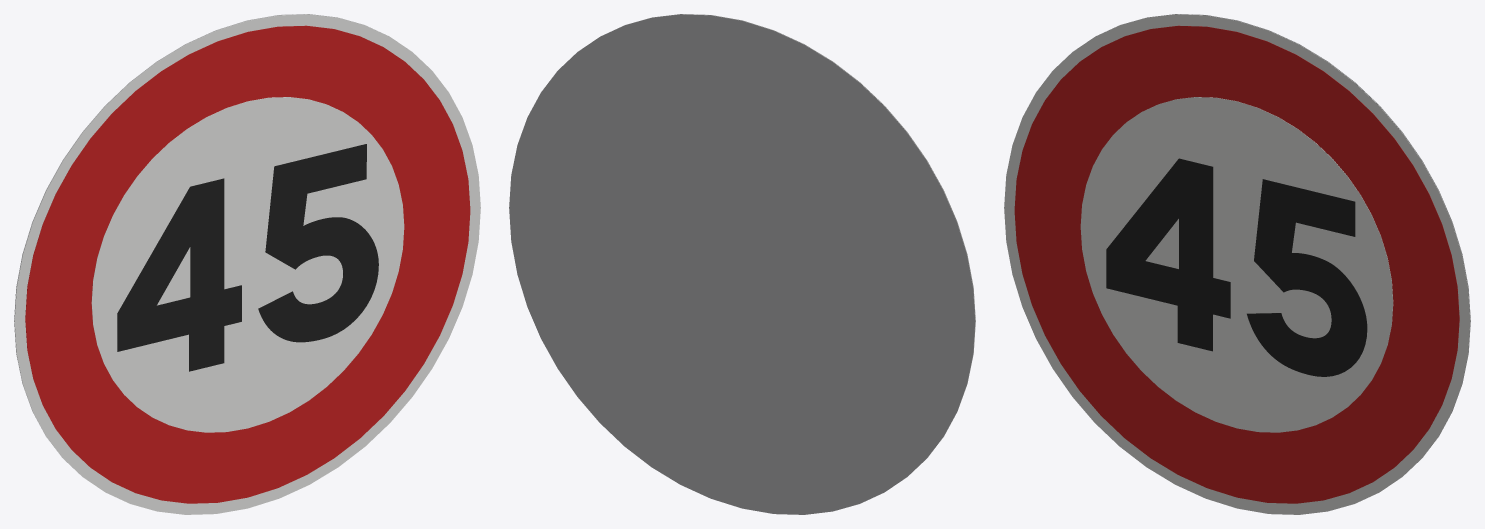
The picture shows the model from 3 angles, left to right: view 1: azimuth 30°, elevation 25°; view 2: azimuth 150°, elevation 25°; view 3: azimuth 330°, elevation 25°; orthographic projection.
Visible parts, largest first — view 1: B14-45_p01, B14-45_p02, B14-45_p00, B14-45_p04, B14-45_p03, B14-45_dos; view 2: B14-45_dos, B14-45_p00; view 3: B14-45_p01, B14-45_p02, B14-45_p00, B14-45_p04, B14-45_p03, B14-45_dos.
Boxes of the visible parts, x1,y1,x2,y2 form: B14-45_p01: (25, 25, 470, 503); B14-45_p02: (91, 97, 404, 432); B14-45_p00: (14, 14, 480, 514); B14-45_p04: (258, 144, 378, 342); B14-45_p03: (117, 178, 241, 371); B14-45_dos: (14, 14, 385, 473); B14-45_dos: (509, 14, 975, 514); B14-45_p00: (604, 14, 975, 473); B14-45_p01: (1014, 25, 1459, 503); B14-45_p02: (1080, 97, 1393, 432); B14-45_p00: (1004, 14, 1470, 514); B14-45_p04: (1247, 179, 1367, 376); B14-45_p03: (1106, 158, 1230, 351); B14-45_dos: (1099, 14, 1470, 473).
Size of the model in its own units: 0.85 by 0.8498 by 0.0035.
